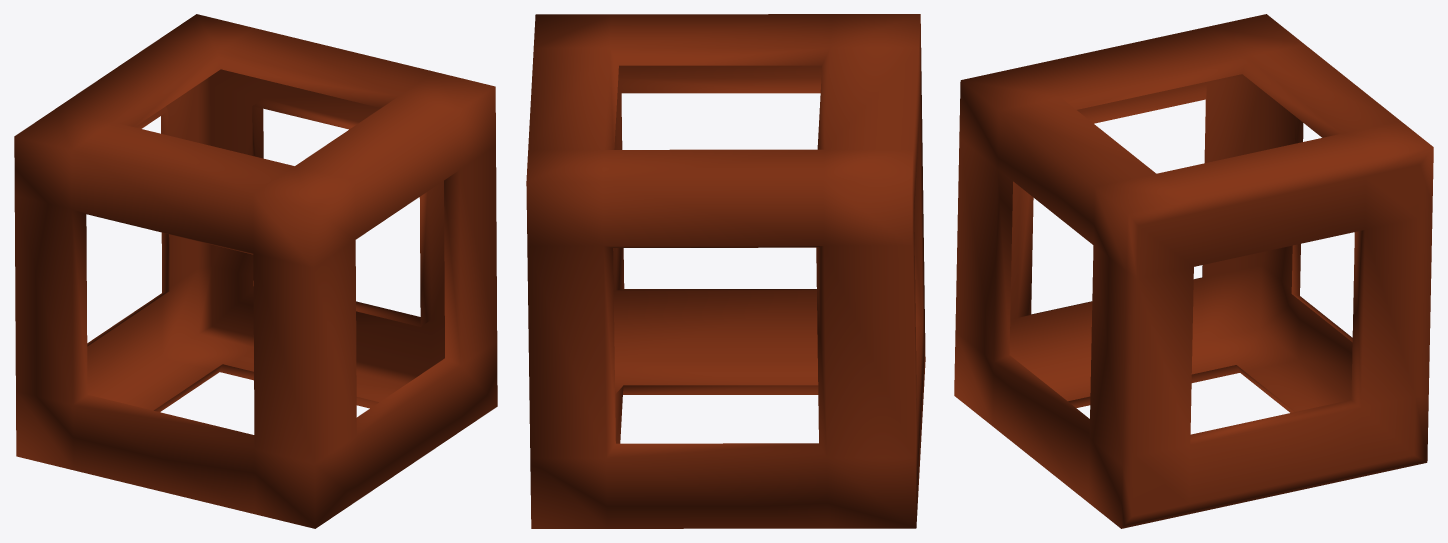
File: cube.1296_lev3.glb
The picture shows the model from 3 angles, left to right: view 1: azimuth 30°, elevation 25°; view 2: azimuth 150°, elevation 25°; view 3: azimuth 270°, elevation 25°; orthographic projection. The views are drawn at different scales.
Parts seen in each view (by area): view 1: cube.1296_lev3; view 2: cube.1296_lev3; view 3: cube.1296_lev3.
Part boxes in pixels (x1,y1,x2,y2): cube.1296_lev3: (14, 14, 497, 528); cube.1296_lev3: (526, 14, 925, 528); cube.1296_lev3: (954, 14, 1433, 528).
Size of the model in its own units: 0.1923 by 0.145 by 0.1942.
